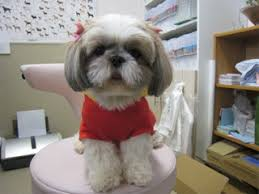dog: (62, 14, 172, 194)
